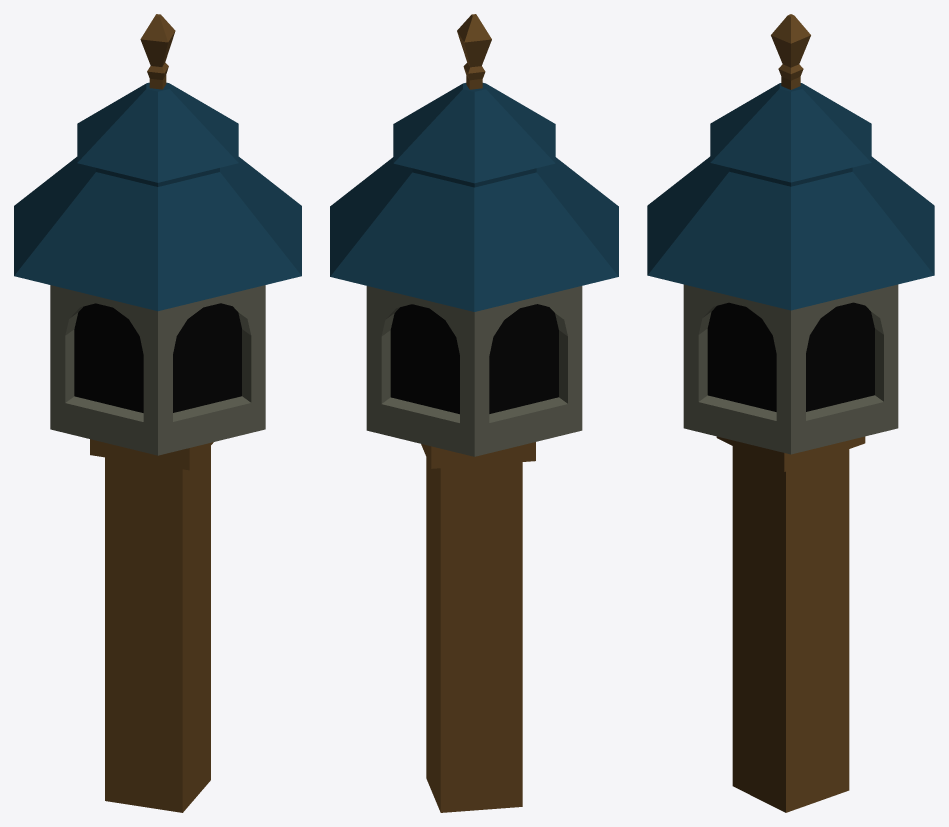
Rendered from Bird House.glb.
The picture shows the model from 3 angles, left to right: view 1: azimuth 30°, elevation 25°; view 2: azimuth 150°, elevation 25°; view 3: azimuth 270°, elevation 25°; orthographic projection.
Parts seen in each view (by area): view 1: BirdHouse1; view 2: BirdHouse1; view 3: BirdHouse1.
Boxes of the visible parts, box(x1,y1,x2,y2) form: BirdHouse1: box(14, 14, 301, 812); BirdHouse1: box(330, 14, 618, 812); BirdHouse1: box(647, 14, 934, 812).
Size of the model in its own units: 1.02 by 2.62 by 0.8806.
